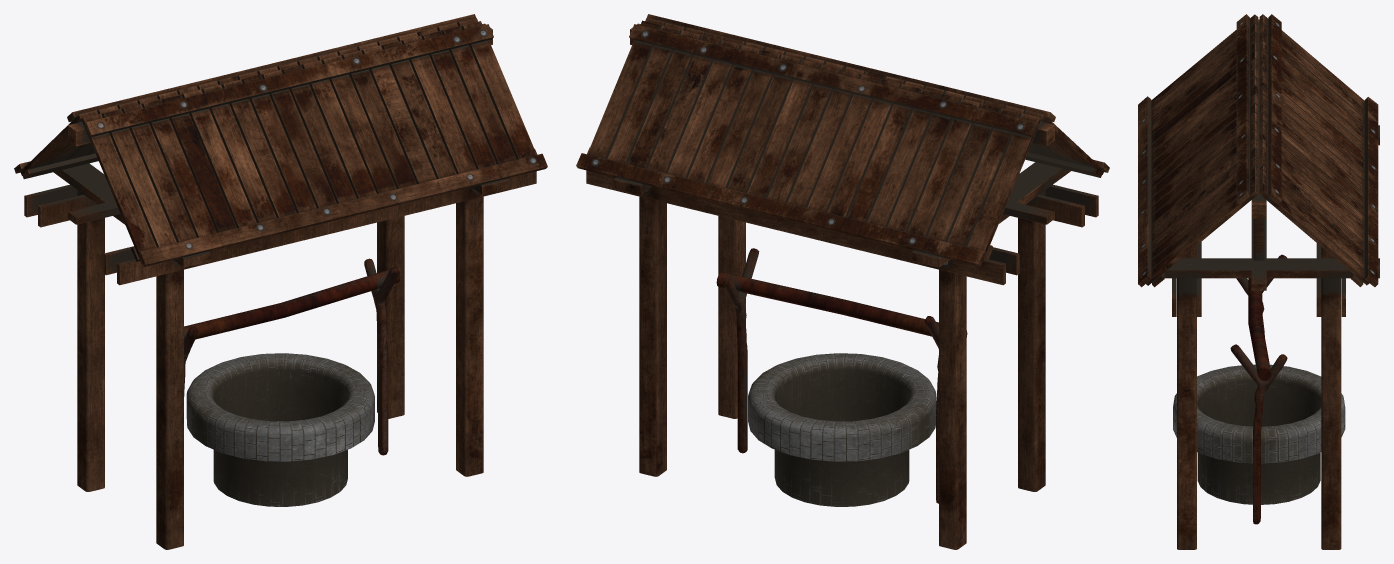
Rendered from Gieng.fbx.
3 views of the same model, side by side, from view 1: azimuth 30°, elevation 25°; view 2: azimuth 150°, elevation 25°; view 3: azimuth 270°, elevation 25° (orthographic). The views are drawn at different scales.
Visible parts, largest first — view 1: Cylinder_2__0; view 2: Cylinder_2__0; view 3: Cylinder_2__0.
Part boxes in pixels (x1,y1,x2,y2): Cylinder_2__0: [14, 14, 547, 549]; Cylinder_2__0: [576, 14, 1109, 549]; Cylinder_2__0: [1138, 14, 1379, 549].
Size of the model in its own units: 310 by 292 by 170.
1 material, 1 textured.
